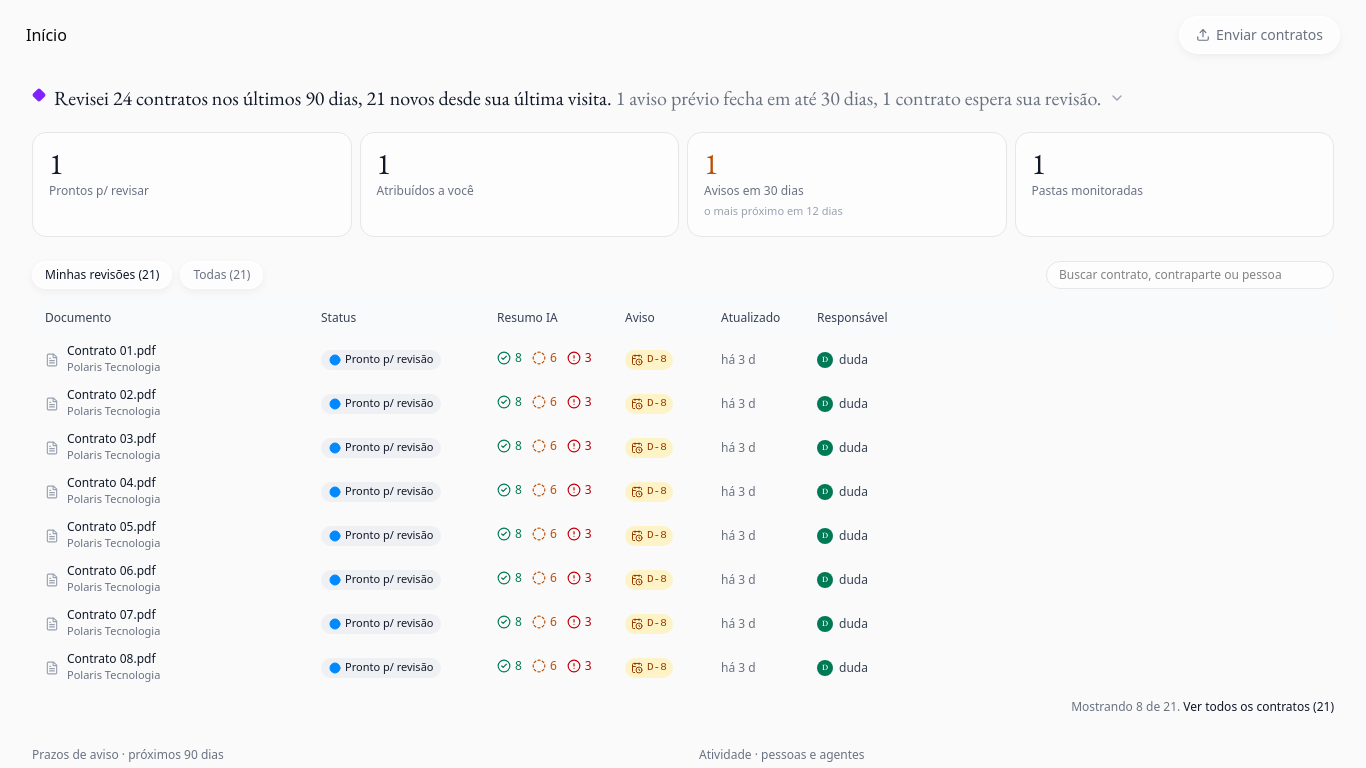
HomeView › a long queue › counts the whole queue in the tabs and keeps j/k and the search on all of it
Expected: the text "Contrato 01.pdf" is shown, [67,343,160,359]
Click the button "Todas (21)" at (222, 274), box [180,260,263,288]
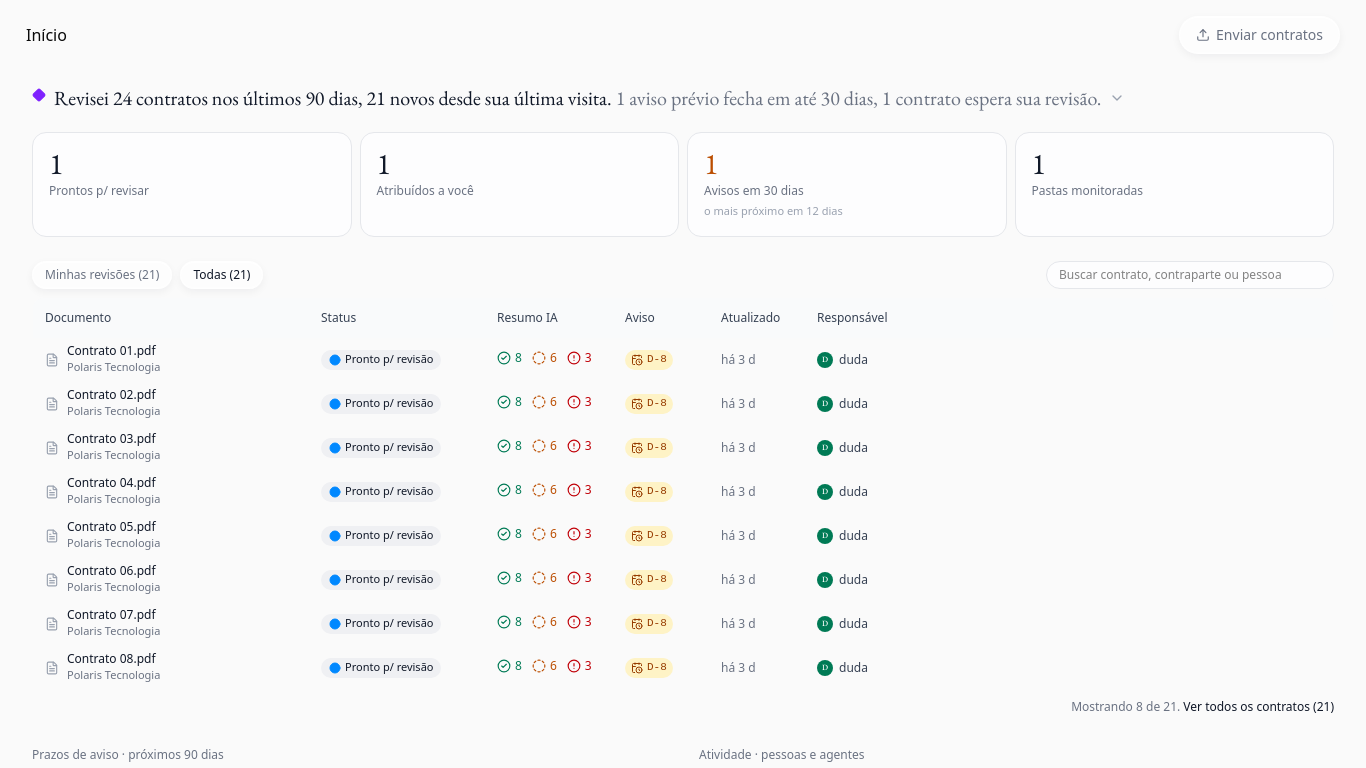
Type "Contrato 20" into the search field named "Buscar revisões" at (1190, 274), box [1046,260,1334,288]
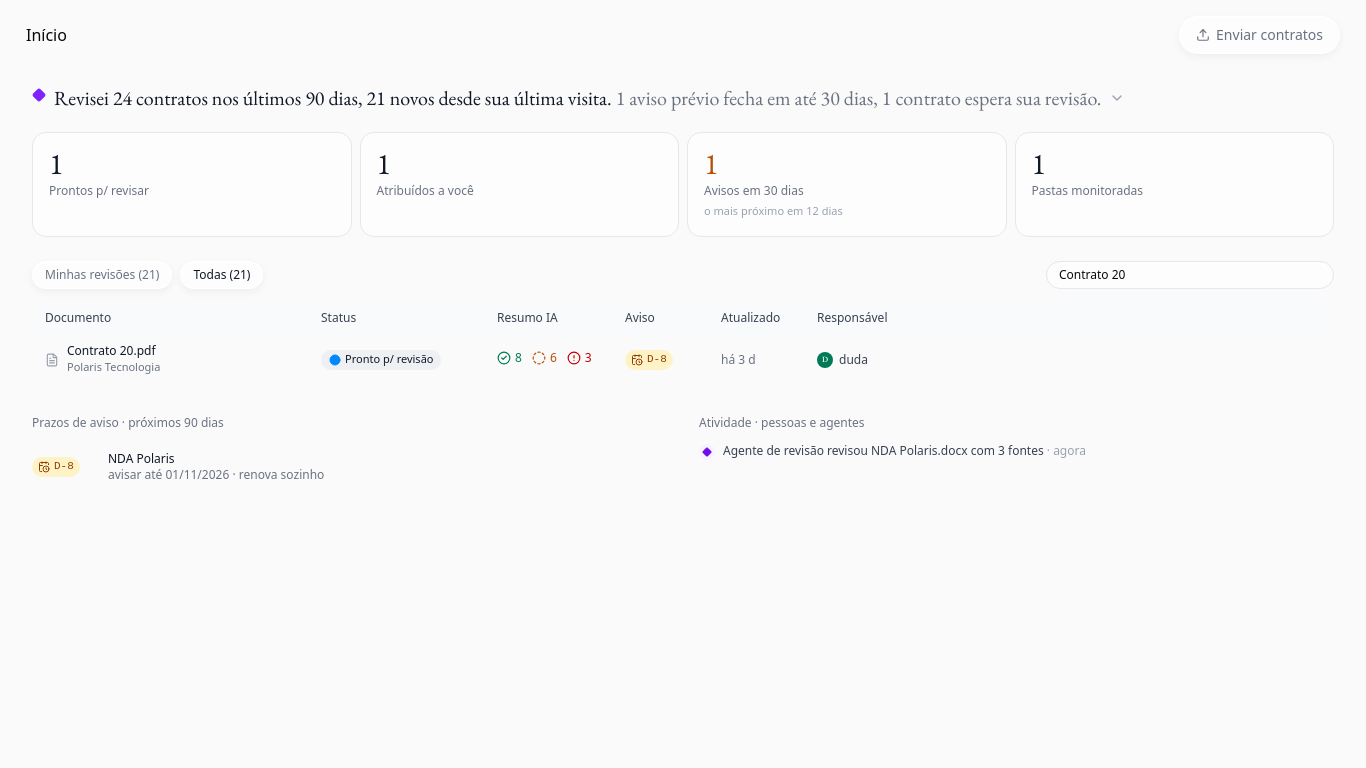
Expected: the text "Contrato 20.pdf" is shown, [67,343,160,359]
Expected: the text "Mostrando" is gone
